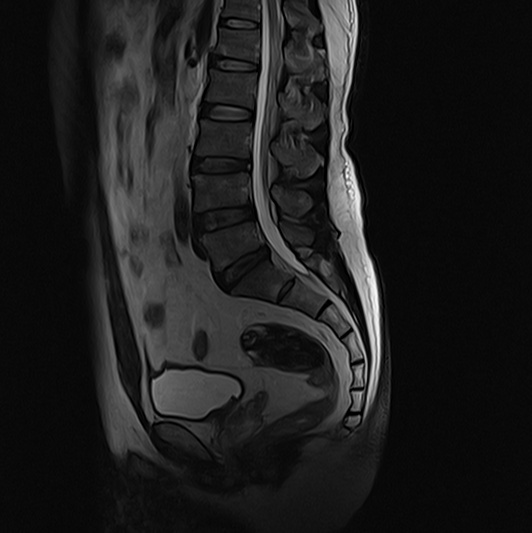L1,v2: (208, 26, 263, 57)
L1-L2,v1: (204, 47, 259, 78)
L2,v2: (205, 72, 260, 103)
L2-L3,v1: (200, 95, 255, 126)
L3,v2: (196, 122, 251, 153)
L3-L4,v3: (192, 148, 247, 179)
L4,v2: (193, 173, 248, 204)
L4-L5,v2: (198, 201, 253, 232)
L5,v2: (205, 229, 260, 260)
L5-S1,v3: (216, 249, 271, 280)
T12-L1,v1: (210, 8, 265, 39)
